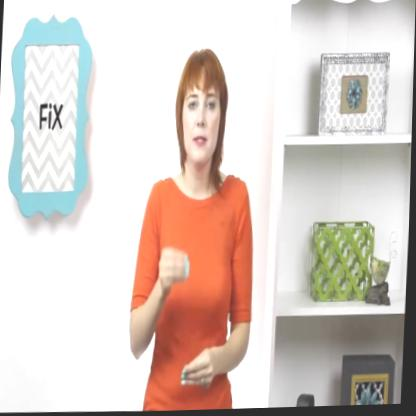Fix: (153, 231, 240, 400)
